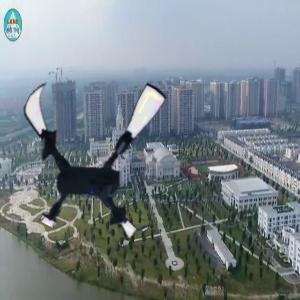drone: (9, 65, 185, 241)
